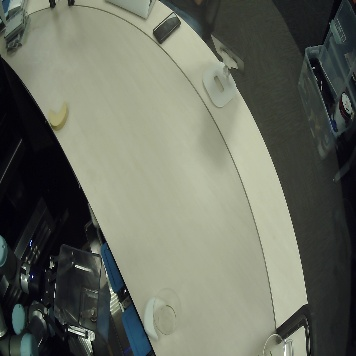empty_cup: (153, 284, 186, 338)
puck: (136, 295, 165, 339), (42, 101, 78, 130)
